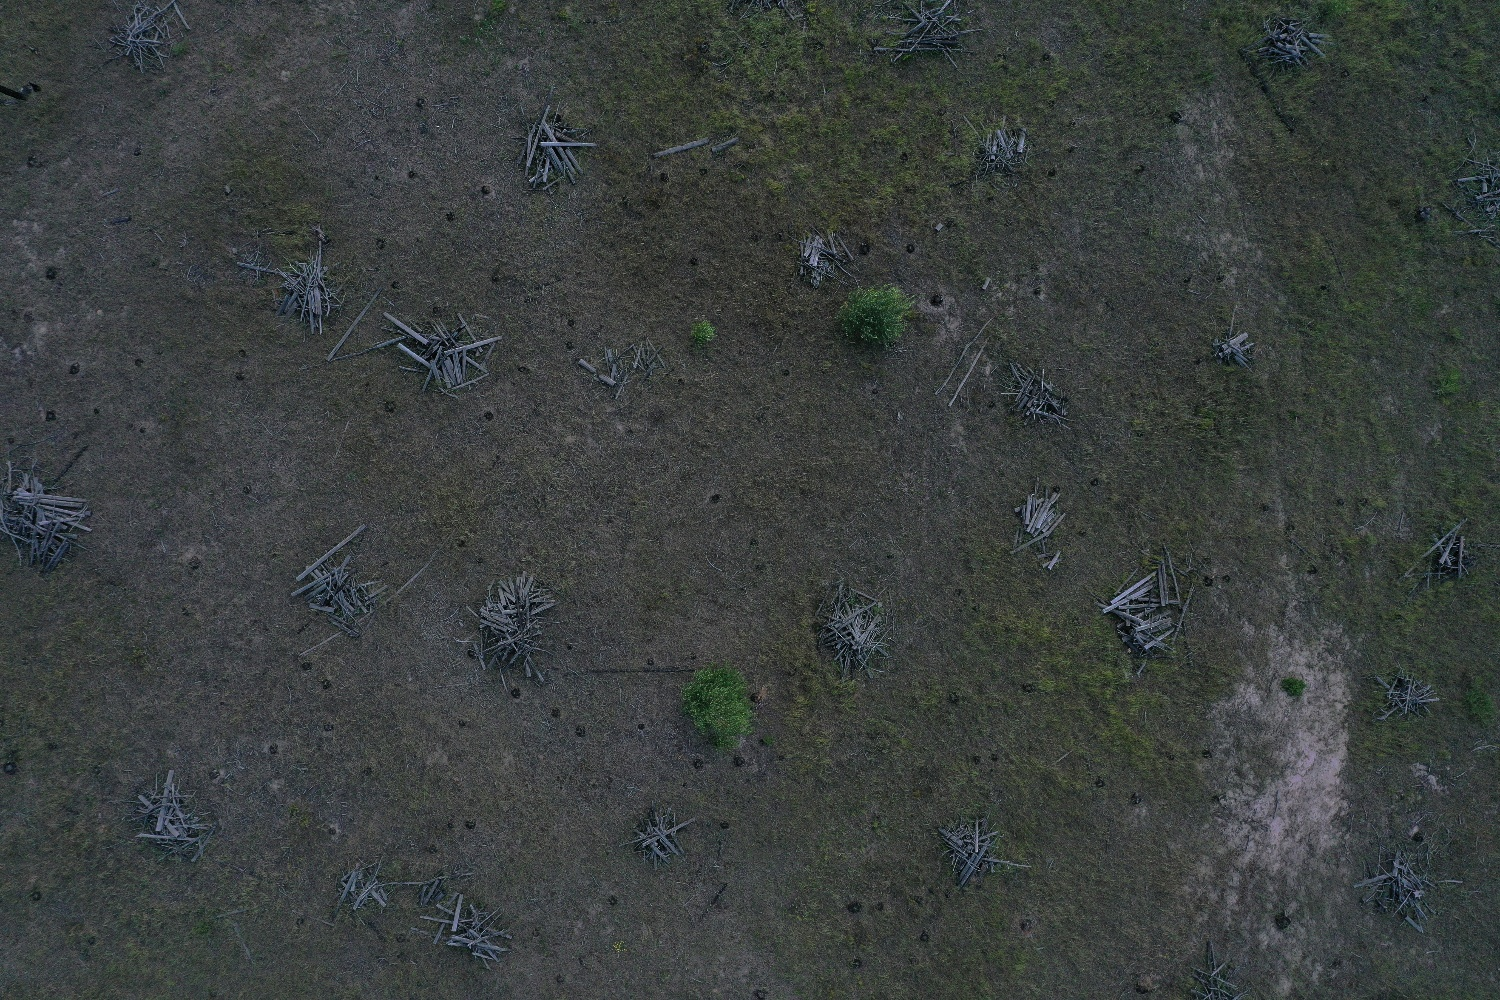branches: (291, 525, 388, 638), (1102, 545, 1198, 657), (235, 240, 345, 336), (1, 462, 95, 573), (381, 312, 503, 395), (473, 573, 558, 684), (812, 583, 890, 681), (138, 769, 218, 862), (1353, 847, 1436, 933), (516, 105, 596, 189), (107, 1, 191, 73), (873, 1, 984, 55), (619, 800, 698, 871), (1240, 15, 1333, 74), (444, 904, 513, 972), (1000, 362, 1070, 427), (937, 815, 999, 886), (1417, 518, 1475, 583), (1374, 669, 1440, 723), (794, 231, 855, 288), (1015, 477, 1070, 536), (973, 129, 1028, 182), (335, 857, 387, 910), (1210, 331, 1254, 372)
